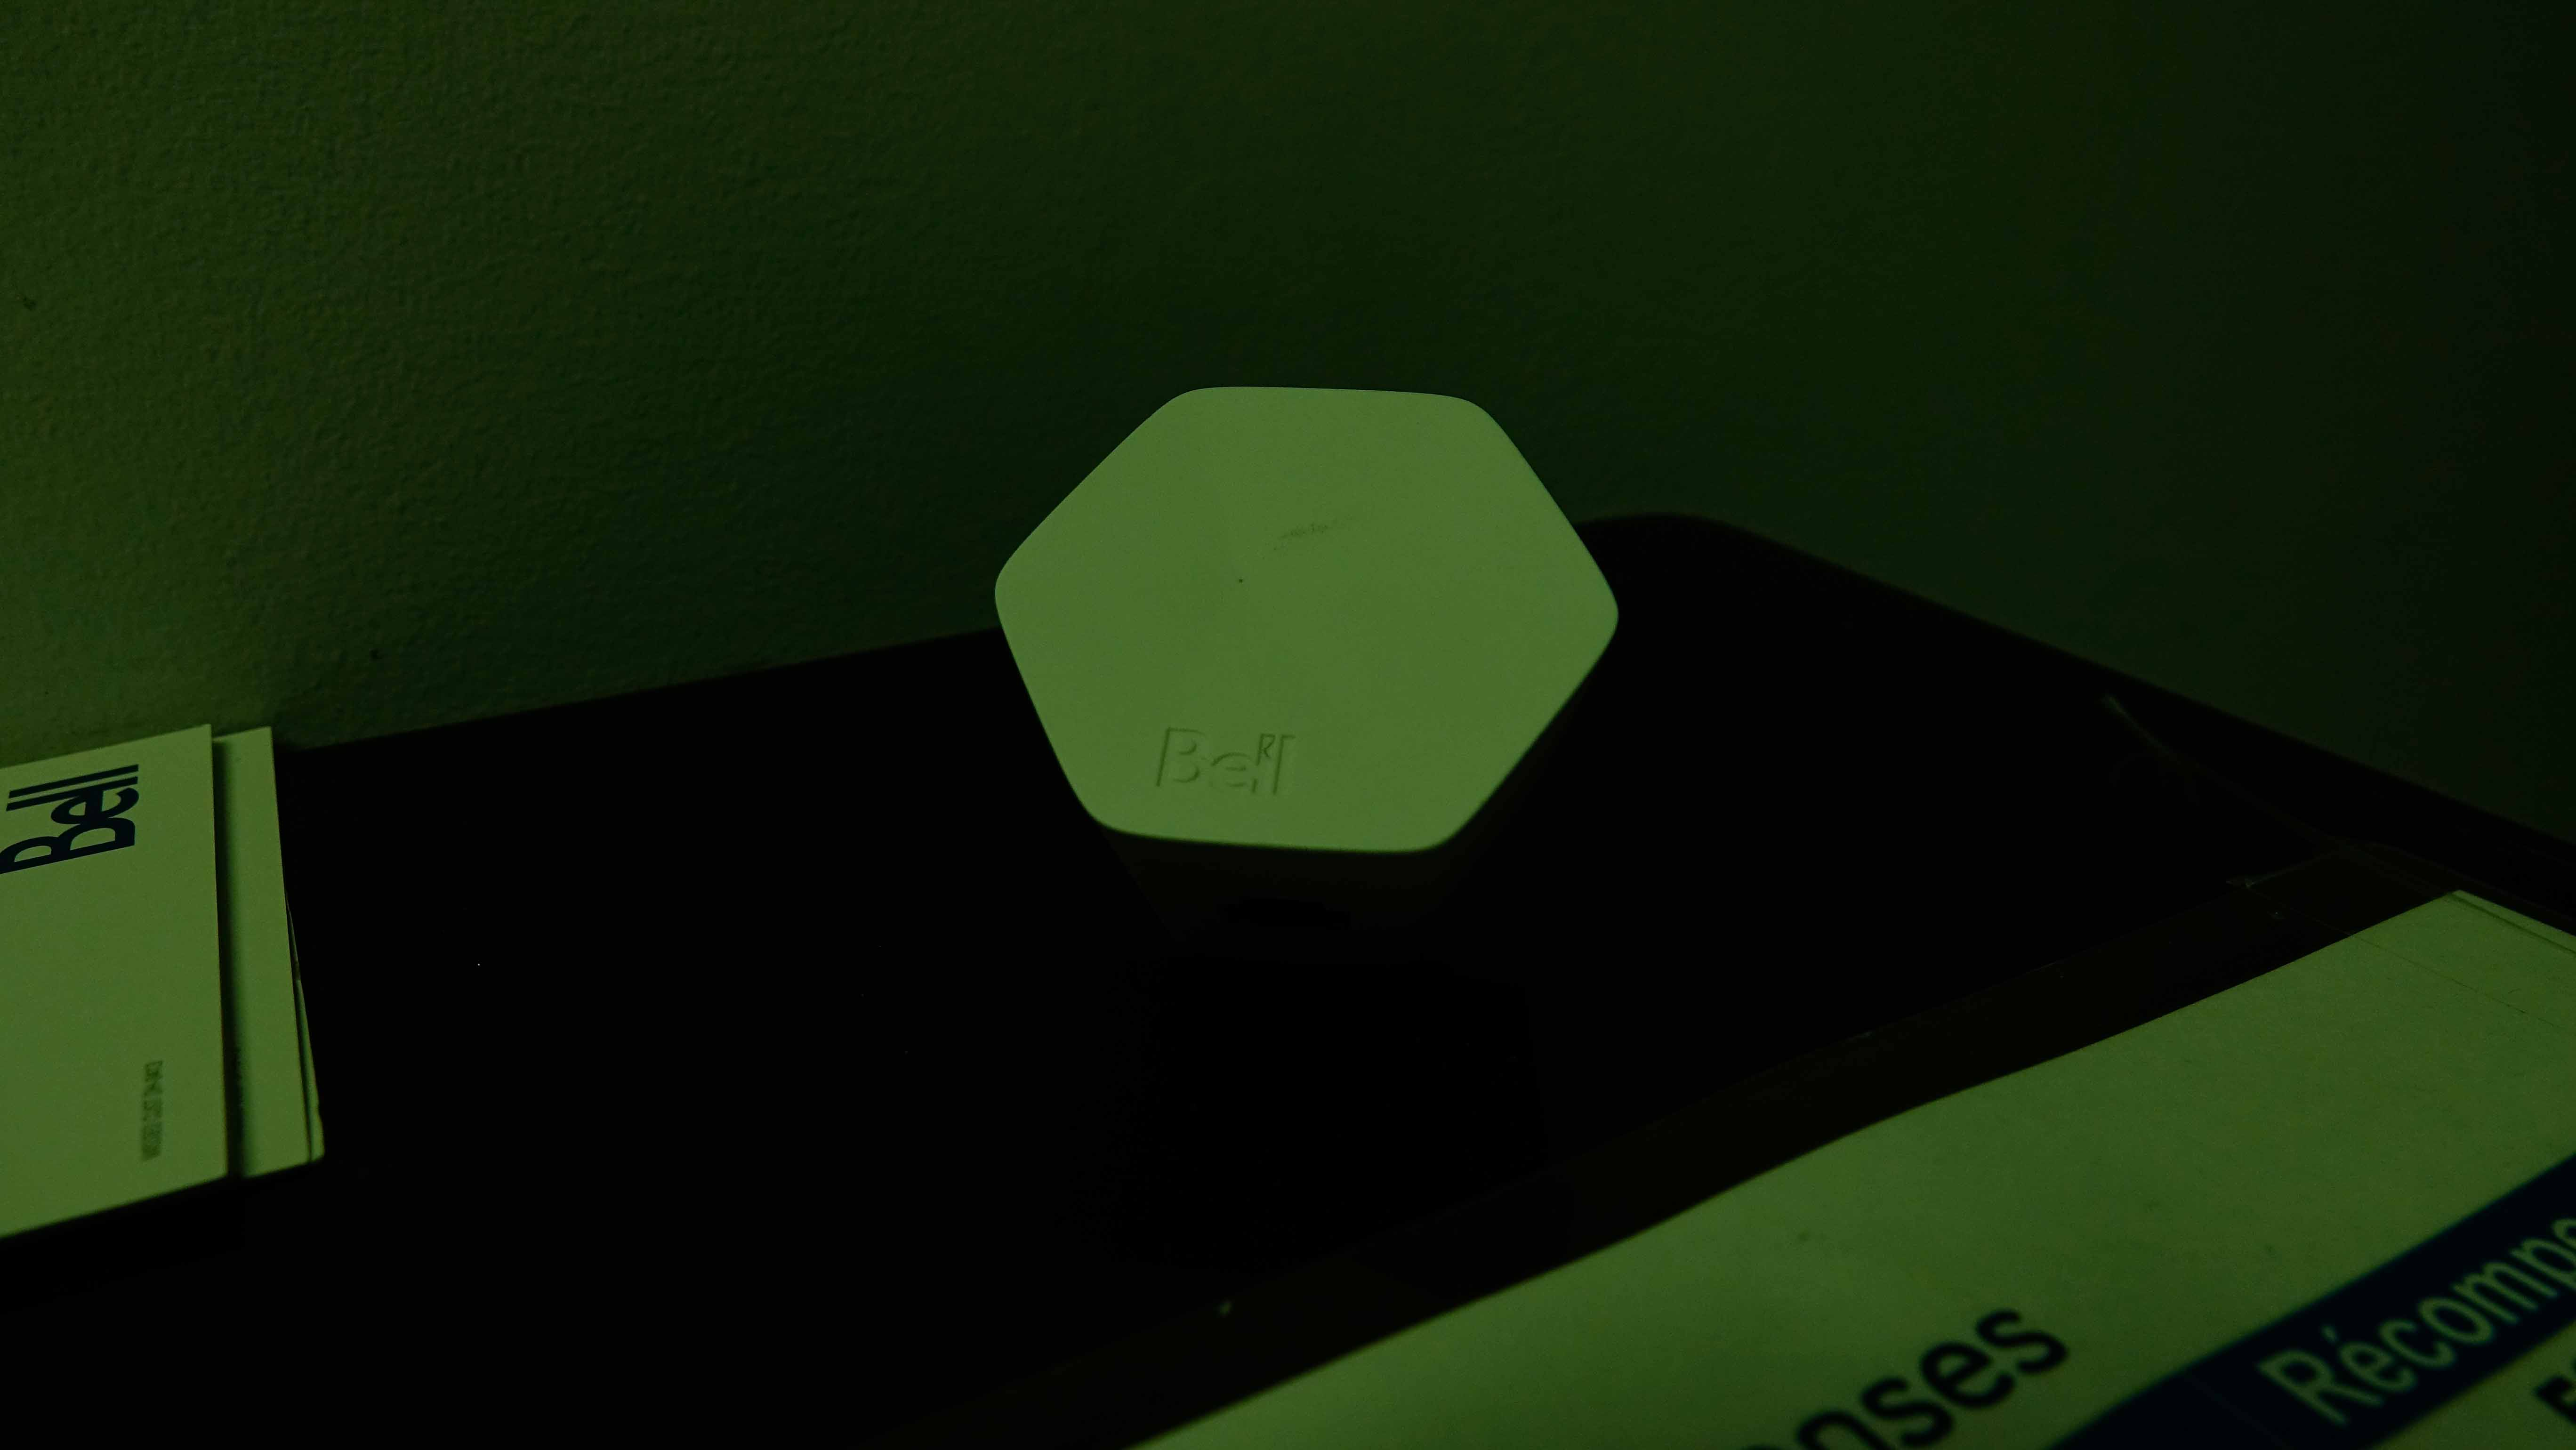pod: (978, 371, 1667, 969)
